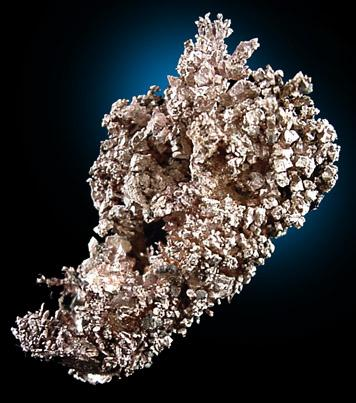silver: (13, 15, 340, 376)
